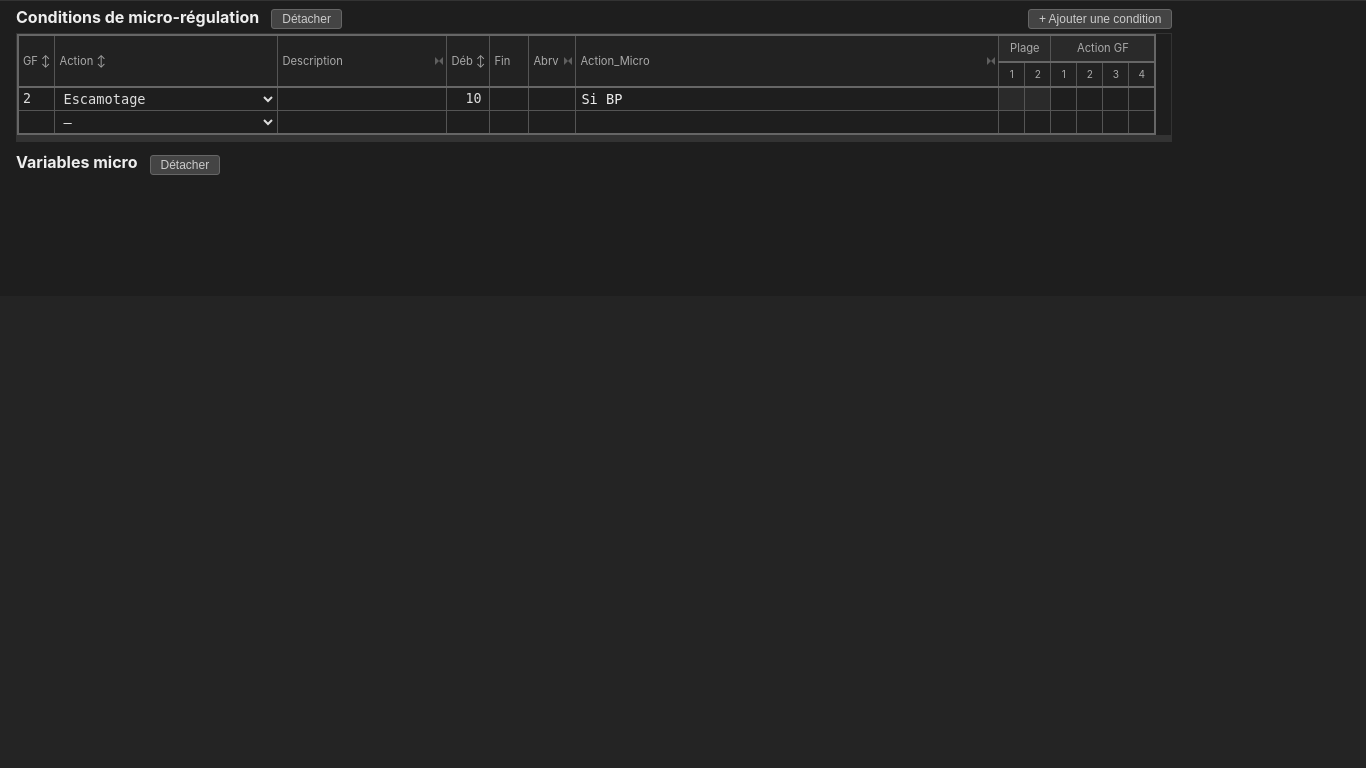
Test case: ActionTable — retrait d’une action › garde la ligne intacte si l’on annule
The image size is (1366, 768).
Select "—" in the dropdown in the row of "Si BP" at coordinates (166, 99), box x1=56 y1=89 x2=276 y2=109
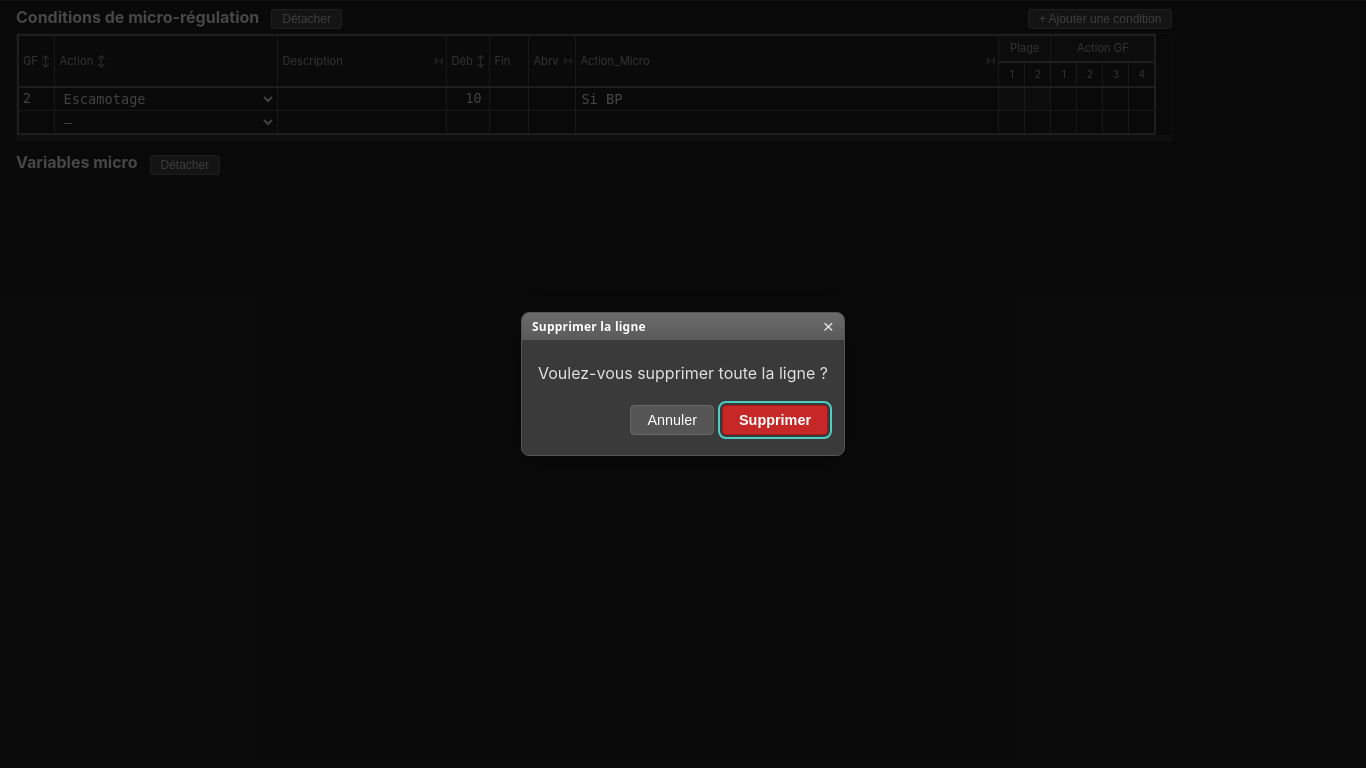
Click the button "Annuler" at coordinates (672, 420), box x1=630 y1=405 x2=714 y2=435
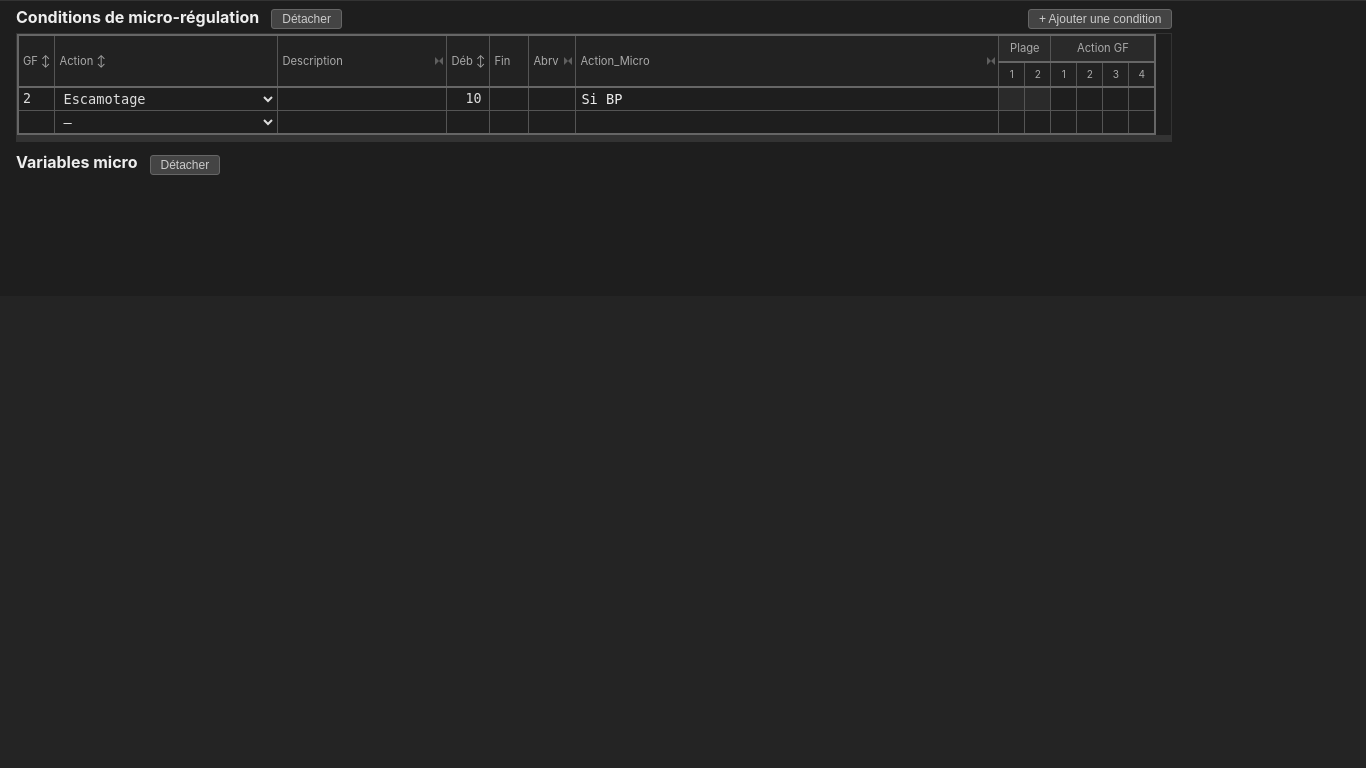
Now the text "Voulez-vous supprimer toute la ligne ?" is gone
